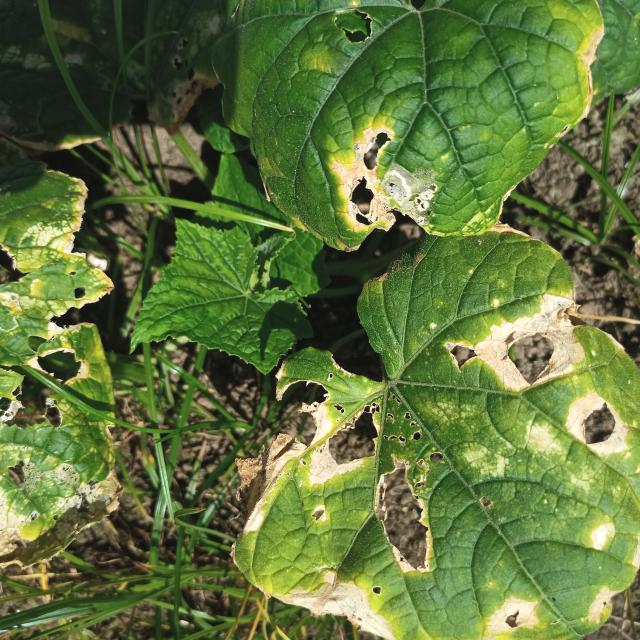disease_cucumber: (244, 300, 640, 640), (330, 125, 412, 258)
